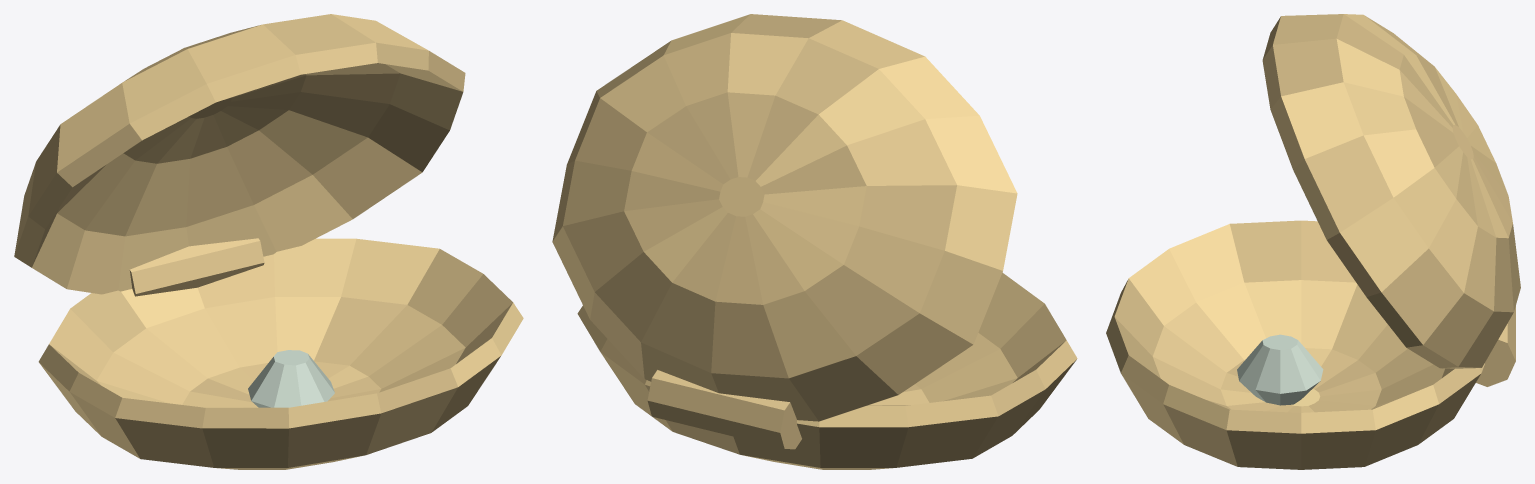
File: EM_ClamShell.fbx
The picture shows the model from 3 angles, left to right: view 1: azimuth 30°, elevation 25°; view 2: azimuth 150°, elevation 25°; view 3: azimuth 270°, elevation 25°; orthographic projection. The views are drawn at different scales.
Visible parts, largest first — view 1: EM_ClamShell; view 2: EM_ClamShell; view 3: EM_ClamShell.
Part boxes in pixels (<box>): EM_ClamShell: <box>14,14,523,469</box>; EM_ClamShell: <box>552,14,1077,469</box>; EM_ClamShell: <box>1106,14,1520,469</box>.
Size of the model in its own units: 0.92 by 0.8181 by 0.802.
2 materials, 2 textured.
